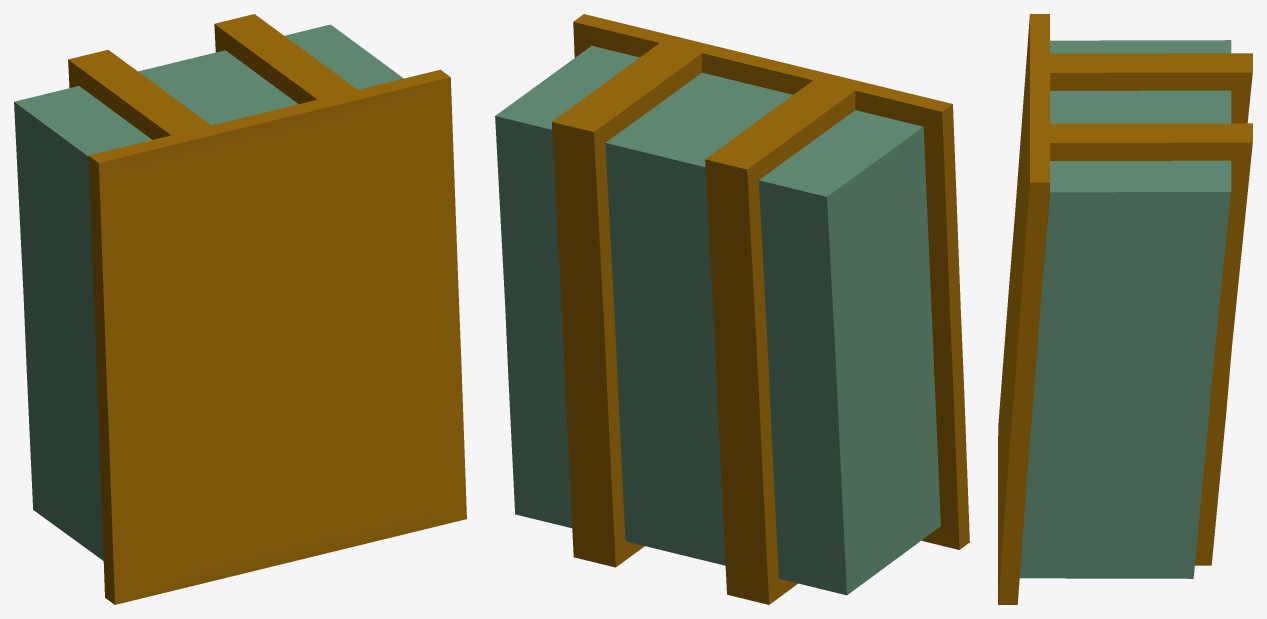
Rendered from SteamTank.fbx.
The picture shows the model from 3 angles, left to right: view 1: azimuth 30°, elevation 25°; view 2: azimuth 150°, elevation 25°; view 3: azimuth 270°, elevation 25°; orthographic projection. The views are drawn at different scales.
Visible parts, largest first — view 1: Tank; view 2: Tank; view 3: Tank.
Part boxes in pixels (x1=…): Tank: x1=14, y1=14, x2=466, y2=604; Tank: x1=495, y1=14, x2=969, y2=604; Tank: x1=998, y1=14, x2=1252, y2=604.
Bounding box in the file's own units: 61.16 × 71.51 × 39.03.
